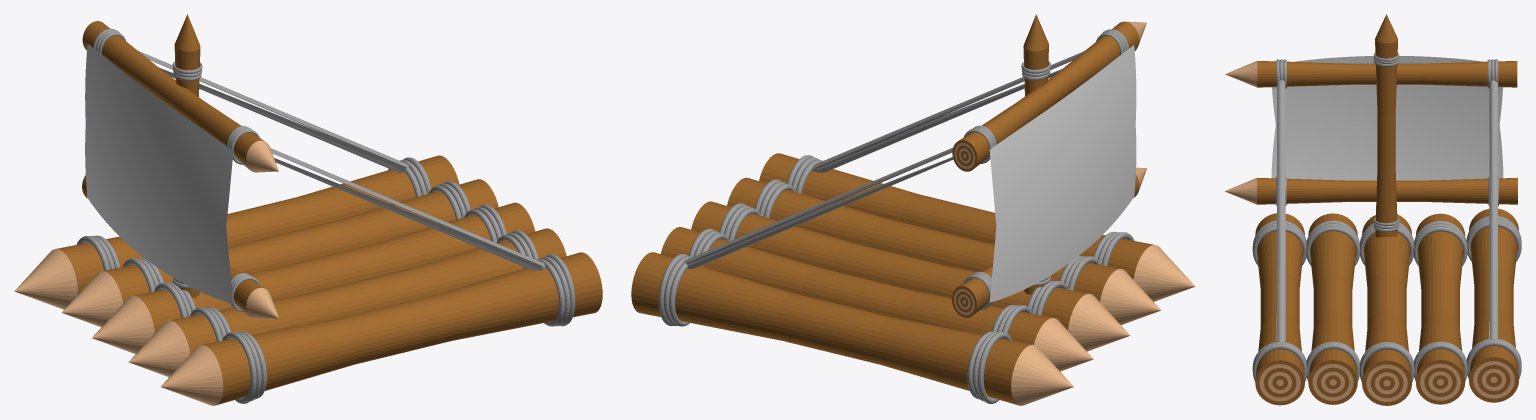
The model's file is ship.fbx.
The picture shows the model from 3 angles, left to right: view 1: azimuth 30°, elevation 25°; view 2: azimuth 150°, elevation 25°; view 3: azimuth 270°, elevation 25°; orthographic projection. The views are drawn at different scales.
Parts seen in each view (by area): view 1: 실린더, 평면, 실린더.001, 실린더.002, 실린더.004, 실린더.003, 실린더.006, 실린더.008, 실린더.005, 실린더.007; view 2: 실린더.004, 평면, 실린더.003, 실린더.002, 실린더.001, 실린더, 실린더.008, 실린더.006, 실린더.005, 실린더.007; view 3: 평면, 실린더.001, 실린더.003, 실린더.002, 실린더.004, 실린더, 실린더.006, 실린더.007, 실린더.008, 실린더.005.
Part boxes in pixels (x1,y1,x2,y2): 실린더: (160,252,602,405); 평면: (85,44,233,303); 실린더.001: (128,228,566,376); 실린더.002: (92,202,535,353); 실린더.004: (14,155,459,309); 실린더.003: (61,179,498,327); 실린더.006: (82,21,278,172); 실린더.008: (138,51,546,270); 실린더.005: (172,14,202,297); 실린더.007: (82,175,278,319); 실린더.004: (631,252,1073,405); 평면: (989,45,1136,302); 실린더.003: (661,227,1093,371); 실린더.002: (691,201,1130,351); 실린더.001: (727,177,1161,324); 실린더: (759,153,1195,301); 실린더.008: (683,51,1083,268); 실린더.006: (952,21,1146,171); 실린더.005: (1021,14,1050,294); 실린더.007: (951,167,1146,317); 평면: (1271,56,1503,180); 실린더.001: (1306,213,1360,404); 실린더.003: (1413,213,1467,404); 실린더.002: (1359,214,1414,405); 실린더.004: (1466,208,1521,402); 실린더: (1252,213,1306,405); 실린더.006: (1225,59,1517,88); 실린더.007: (1224,176,1517,205); 실린더.008: (1276,80,1497,342); 실린더.005: (1373,14,1399,237).
Size of the model in its own units: 1752 by 1277 by 1290.
